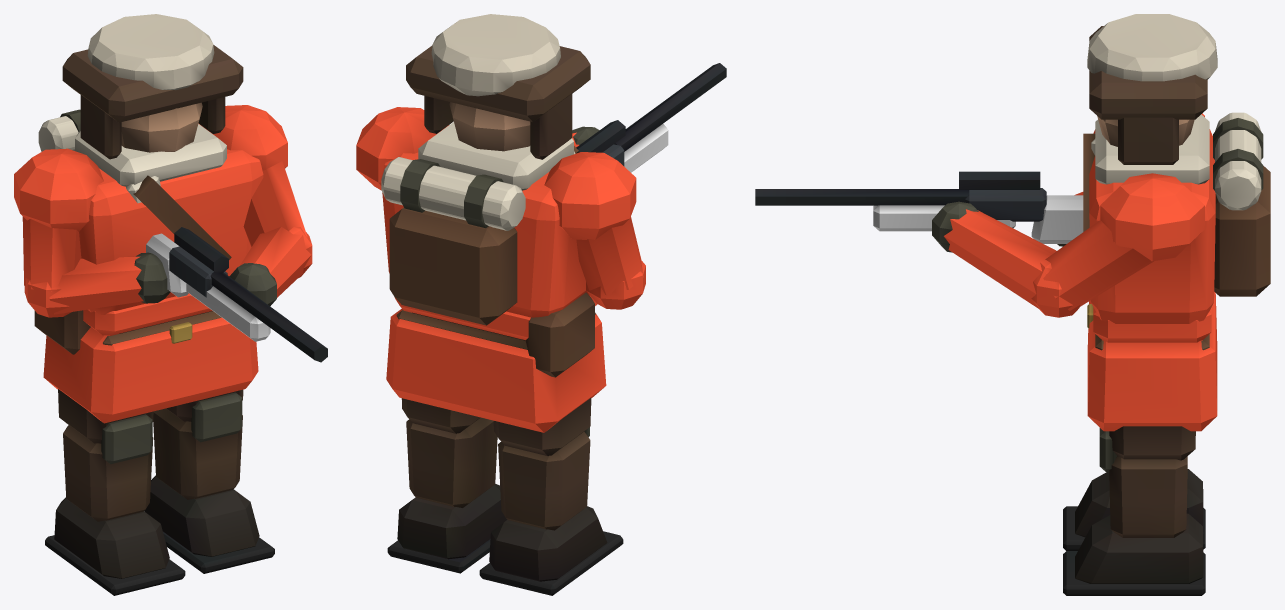
Rendered from militia.glb.
3 renders of one model, left to right at view 1: azimuth 30°, elevation 25°; view 2: azimuth 150°, elevation 25°; view 3: azimuth 270°, elevation 25°, orthographic. The views are drawn at different scales.
Visible parts, largest first — view 1: geo_torso, geo_leg_right, geo_leg_left, geo_arm_right, geo_arm_left; view 2: geo_torso, geo_leg_right, geo_leg_left, geo_arm_right; view 3: geo_torso, geo_leg_left, geo_arm_left, geo_leg_right.
Boxes of the visible parts, x1,y1,x2,y2 form: geo_torso: [14, 14, 327, 423]; geo_leg_right: [45, 389, 185, 595]; geo_leg_left: [144, 389, 274, 573]; geo_arm_right: [22, 216, 170, 317]; geo_arm_left: [229, 161, 312, 306]; geo_torso: [356, 14, 726, 432]; geo_leg_right: [479, 398, 623, 595]; geo_leg_left: [387, 398, 507, 573]; geo_arm_right: [576, 217, 645, 309]; geo_torso: [755, 14, 1270, 431]; geo_leg_left: [1063, 426, 1205, 595]; geo_arm_left: [932, 201, 1153, 317]; geo_leg_right: [1063, 469, 1205, 550].
Bounding box in the file's own units: 1.53 × 2.82 × 2.53.
